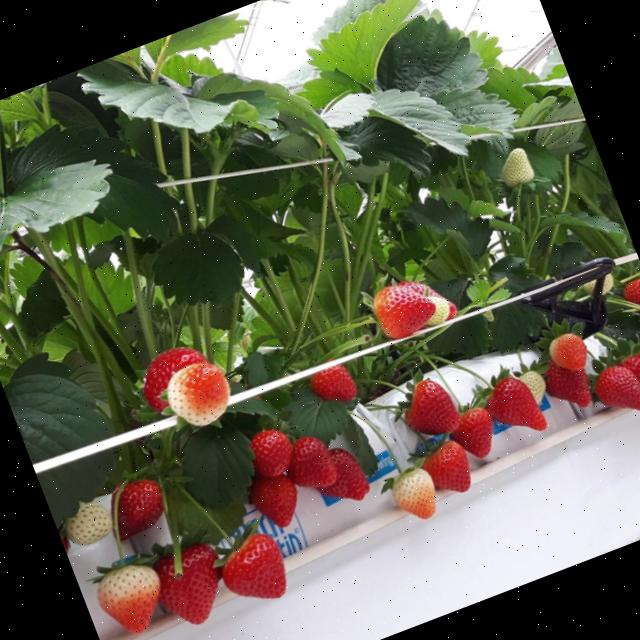Ripe Strawberry: (144, 538, 240, 636), (212, 524, 298, 614), (132, 337, 222, 415), (366, 271, 444, 345), (479, 370, 548, 447), (102, 474, 174, 544), (398, 374, 466, 446), (438, 402, 504, 468), (312, 440, 372, 510), (246, 470, 310, 534), (281, 434, 342, 497), (541, 352, 597, 418), (588, 358, 640, 425), (422, 442, 480, 501), (245, 422, 301, 483), (309, 356, 362, 412), (612, 349, 640, 423), (618, 277, 640, 316), (444, 298, 460, 317)
